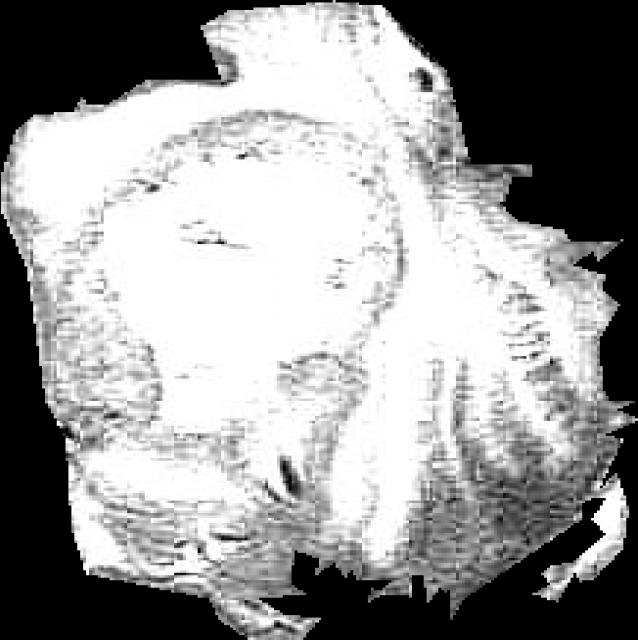tumor_less_chance: (1, 0, 638, 640)
